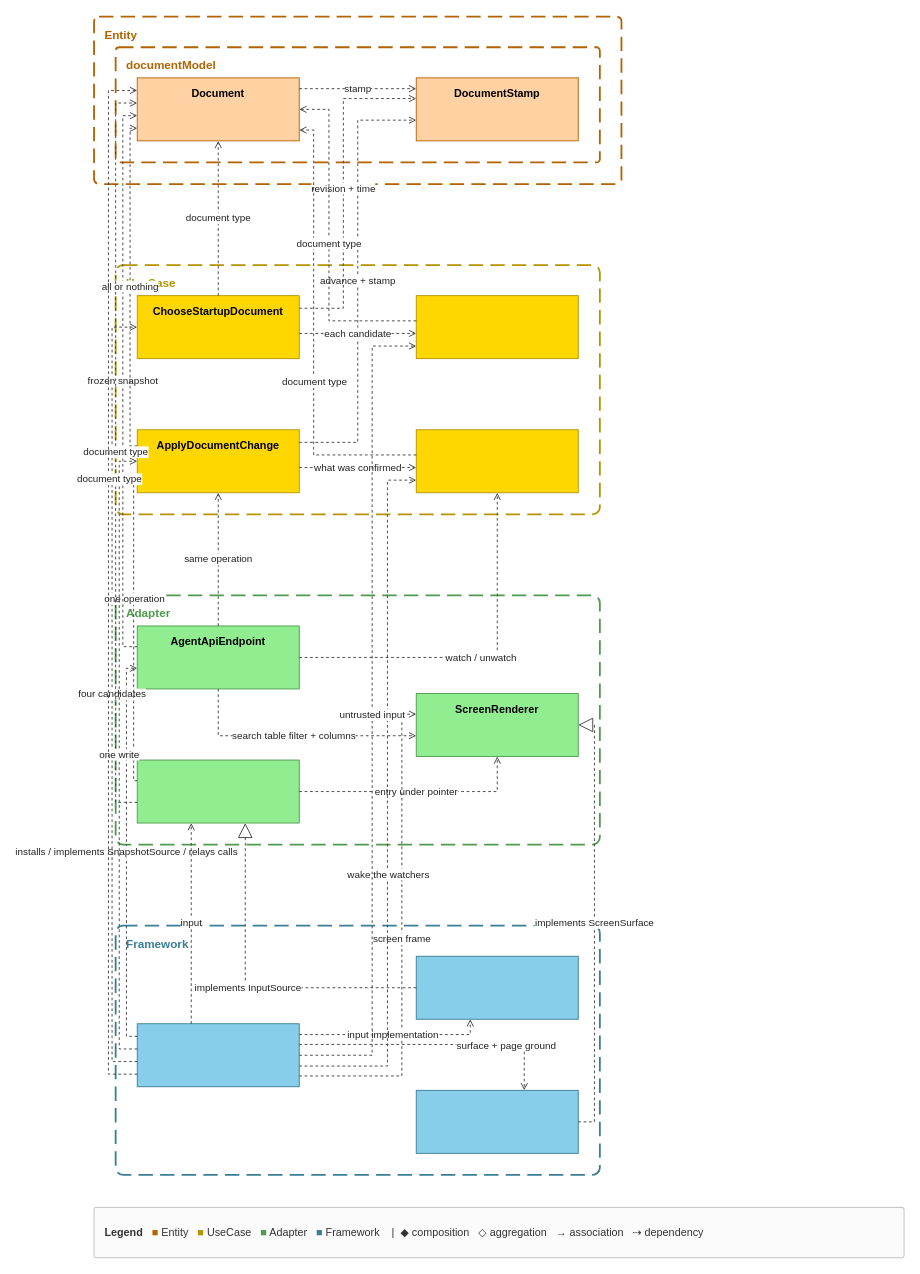
This 920x1274 diagram has some shape labels left out. The shapes that lost their labels are listed below. From the top down, each one's centre as x and y in pixels, then its label:
At (x=496, y=327): "ValidateImportedDocument".
At (x=496, y=461): "NotifyChangeWatchers".
At (x=217, y=791): "InputCommandTranslator".
At (x=496, y=987): "DomInputSource".
At (x=217, y=1055): "SingleHtmlShell".
At (x=496, y=1121): "DomScreenSurface".
